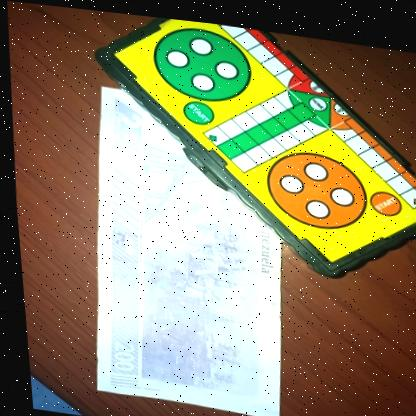two_hundred-back-vef: (70, 80, 294, 416)
